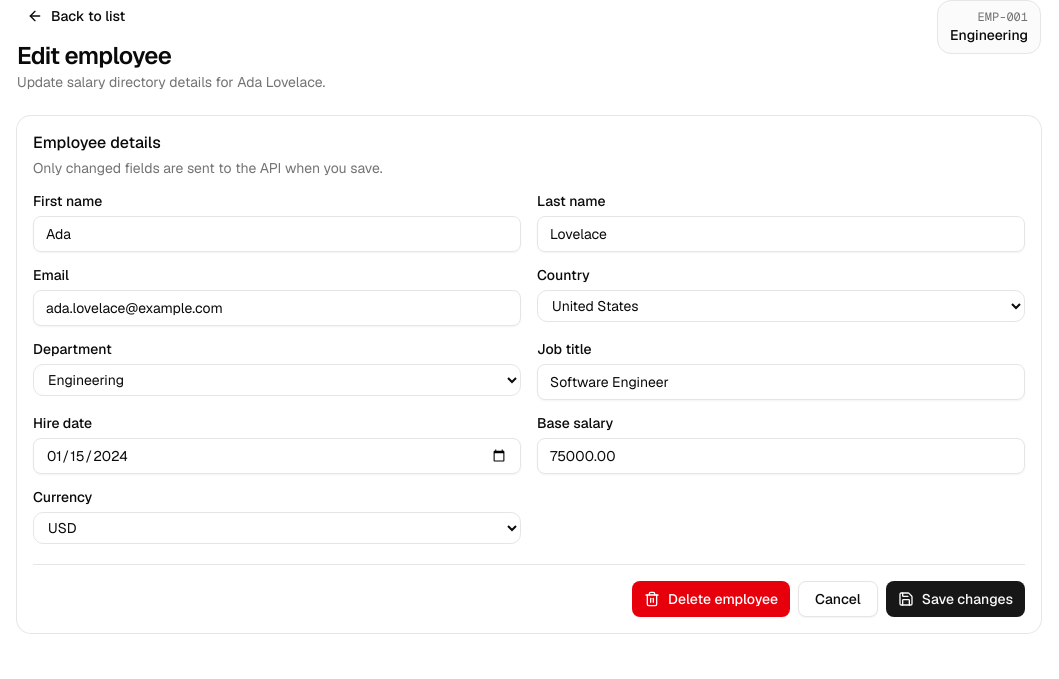
EditEmployeeClient › displays validation error for invalid salary
The width and height of the screenshot is (1059, 679).
Replace the text in the field labelled "Base salary" with "abc" at (781, 456), box [537, 438, 1025, 474]
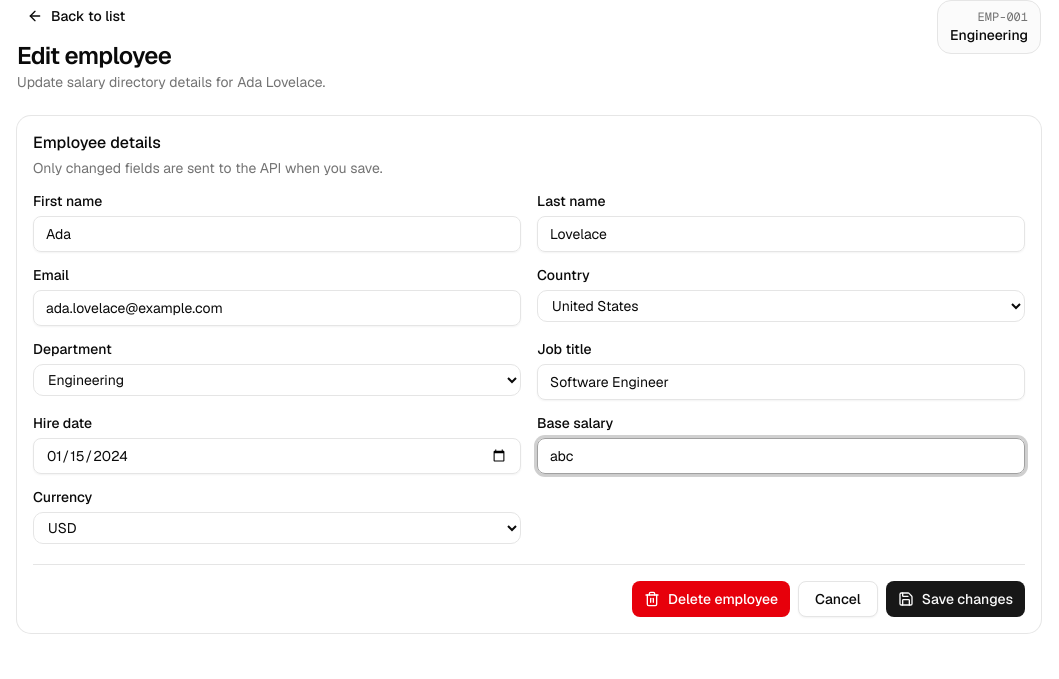
Click the button "Save changes" at (955, 599), box [886, 581, 1025, 617]
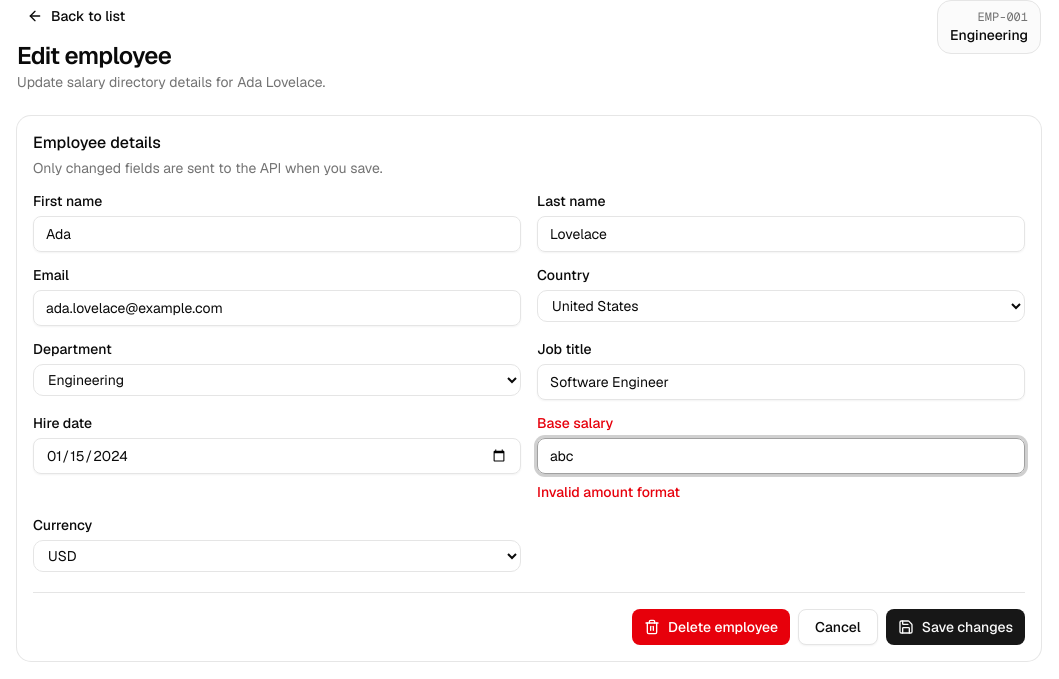
Check: the text "Invalid amount format" is shown, box [537, 483, 680, 501]
